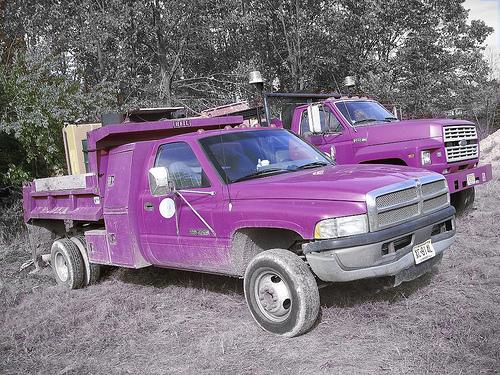truck: (22, 105, 458, 337), (247, 70, 494, 217)
